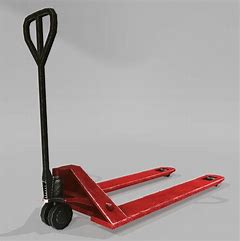Pallet Jack: (21, 7, 227, 233)
